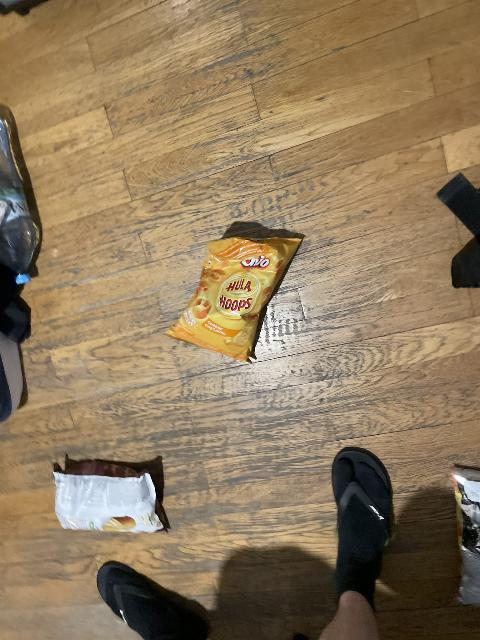Chio Cascaval 125g: (445, 461, 480, 604)
Chio Hula Hoops Cheese 70g: (164, 231, 307, 363)
Lays Beef Grilled Ribs 125g: (50, 462, 170, 535)
